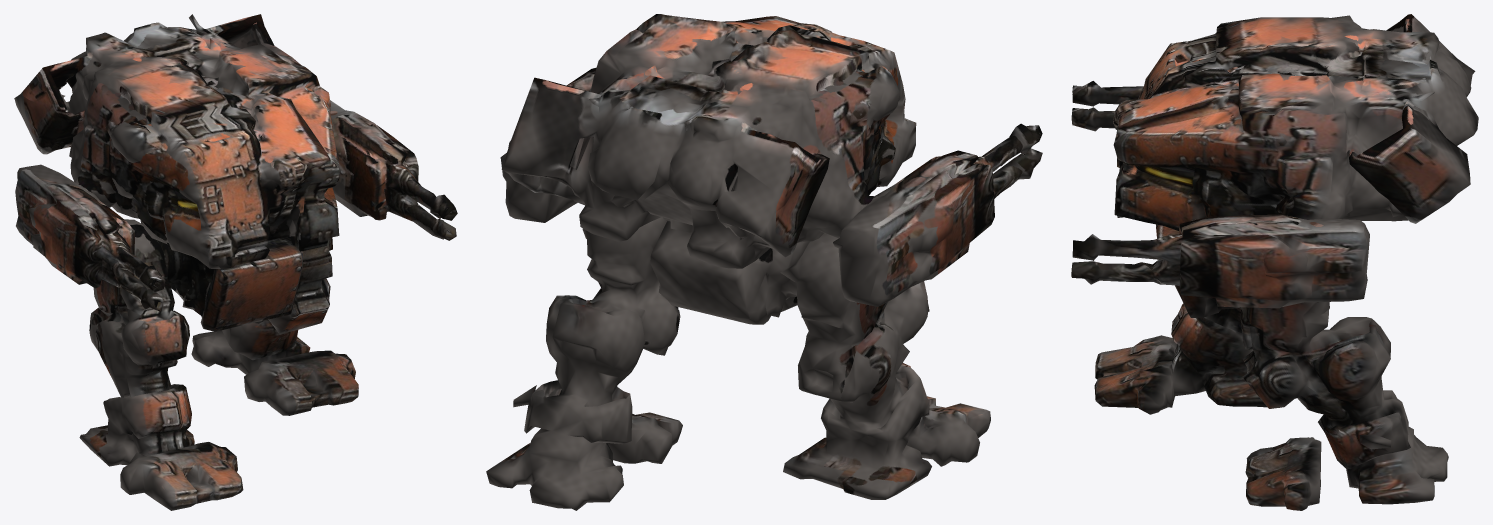
The model's file is grit_lod1.glb.
3 views of the same model, side by side, from view 1: azimuth 30°, elevation 25°; view 2: azimuth 150°, elevation 25°; view 3: azimuth 270°, elevation 25° (orthographic). The views are drawn at different scales.
Visible parts, largest first — view 1: geometry_0; view 2: geometry_0; view 3: geometry_0.
Boxes of the visible parts, x1,y1,x2,y2 form: geometry_0: [14, 14, 457, 510]; geometry_0: [486, 14, 1042, 510]; geometry_0: [1071, 14, 1478, 510].
Bounding box in the file's own units: 2 × 1.98 × 1.91.
1 material, 1 textured.
